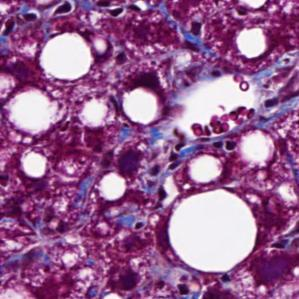inflammation: (145, 137, 188, 181), (211, 137, 237, 155), (173, 274, 192, 297)
